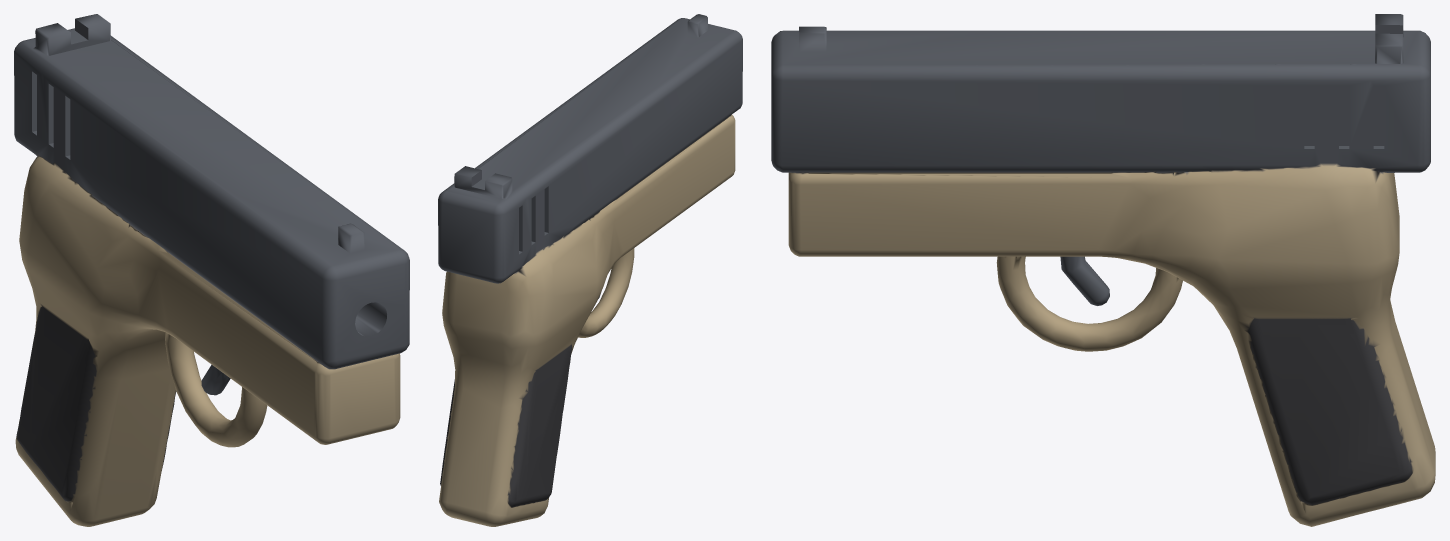
The model's file is pistol.glb.
3 renders of one model, left to right at view 1: azimuth 30°, elevation 25°; view 2: azimuth 150°, elevation 25°; view 3: azimuth 270°, elevation 25°, orthographic. The views are drawn at different scales.
Parts seen in each view (by area): view 1: body; view 2: body; view 3: body.
Boxes of the visible parts, <box> form: body: <box>14,14,409,526</box>; body: <box>438,14,742,526</box>; body: <box>771,14,1435,526</box>.
Size of the model in its own units: 0.0455 by 0.1535 by 0.1913.
